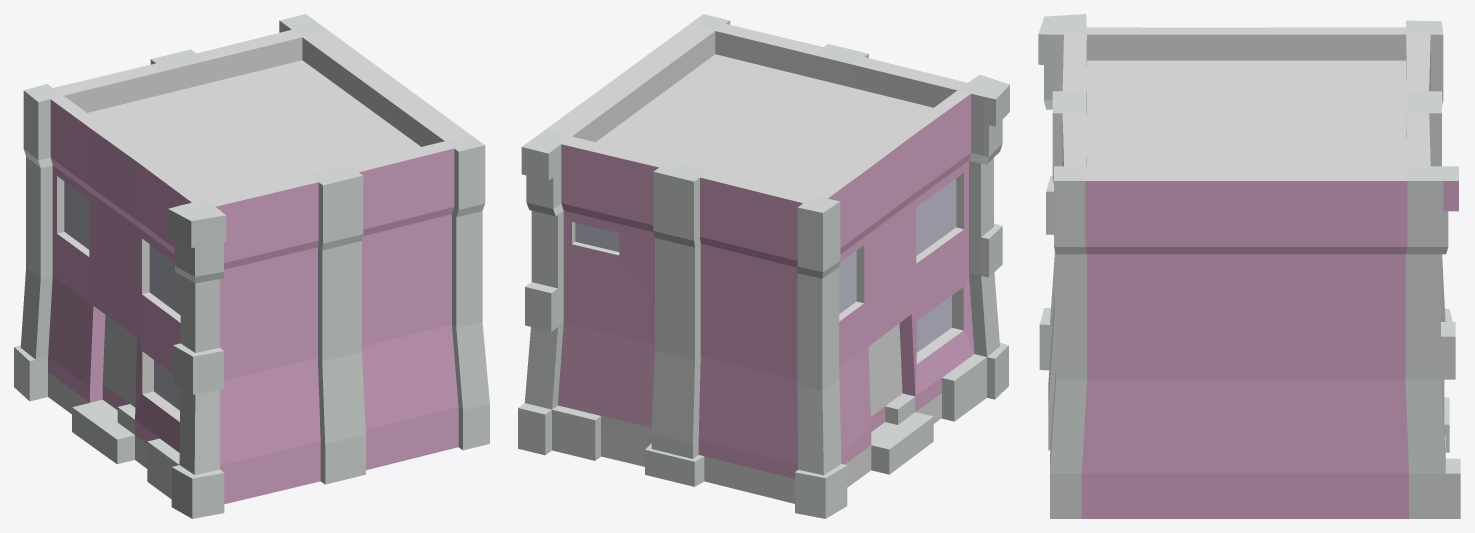
Rendered from Modelo TOON Casinha Laje 1.fbx.
3 views of the same model, side by side, from view 1: azimuth 30°, elevation 25°; view 2: azimuth 150°, elevation 25°; view 3: azimuth 270°, elevation 25° (orthographic). The views are drawn at different scales.
Parts seen in each view (by area): view 1: Cube; view 2: Cube; view 3: Cube.
Boxes of the visible parts, bbox=[...] form: Cube: bbox=[14, 14, 489, 518]; Cube: bbox=[518, 14, 1009, 518]; Cube: bbox=[1038, 14, 1460, 518].
Size of the model in its own units: 213 by 198 by 225.
